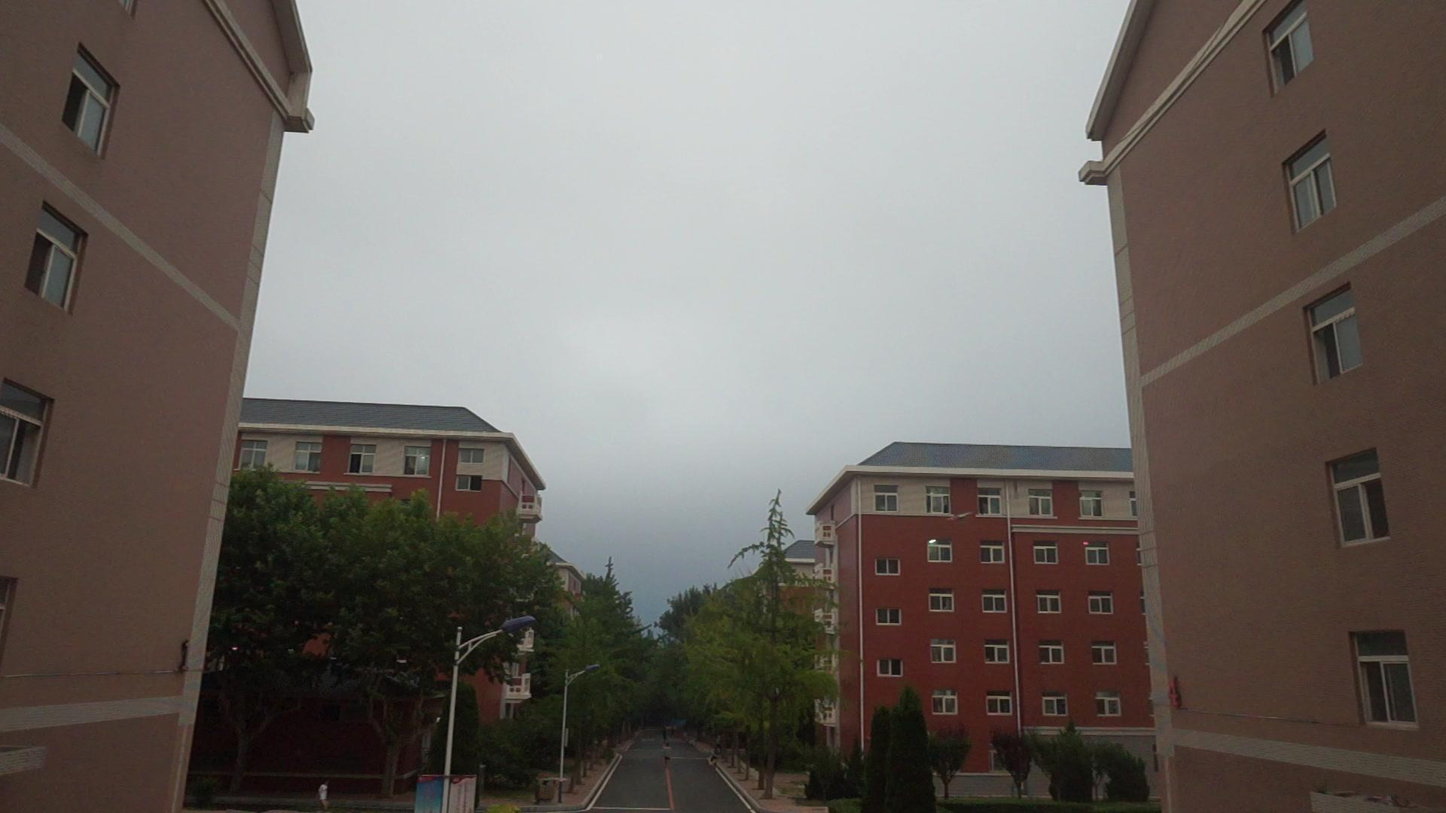UAV: (947, 513, 975, 524)
